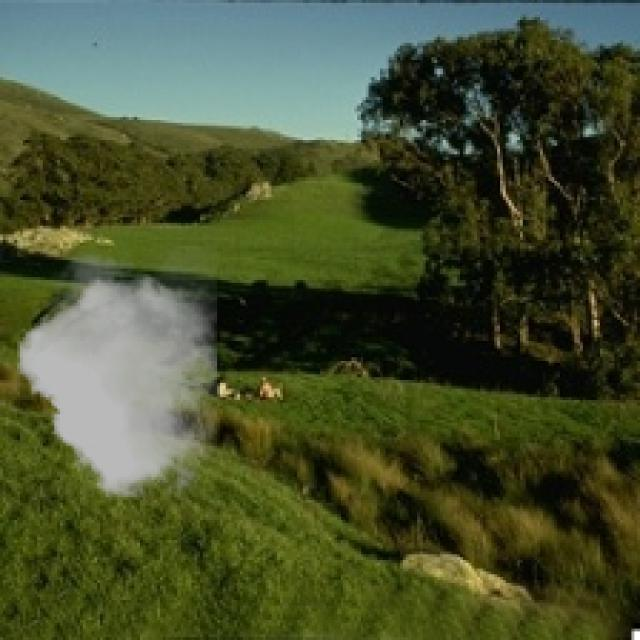Smoke: (17, 246, 217, 503)
